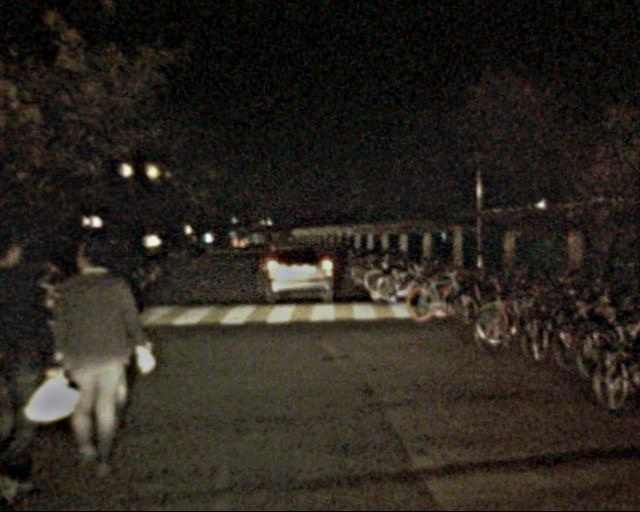person: (61, 226, 142, 467), (2, 220, 56, 486)
